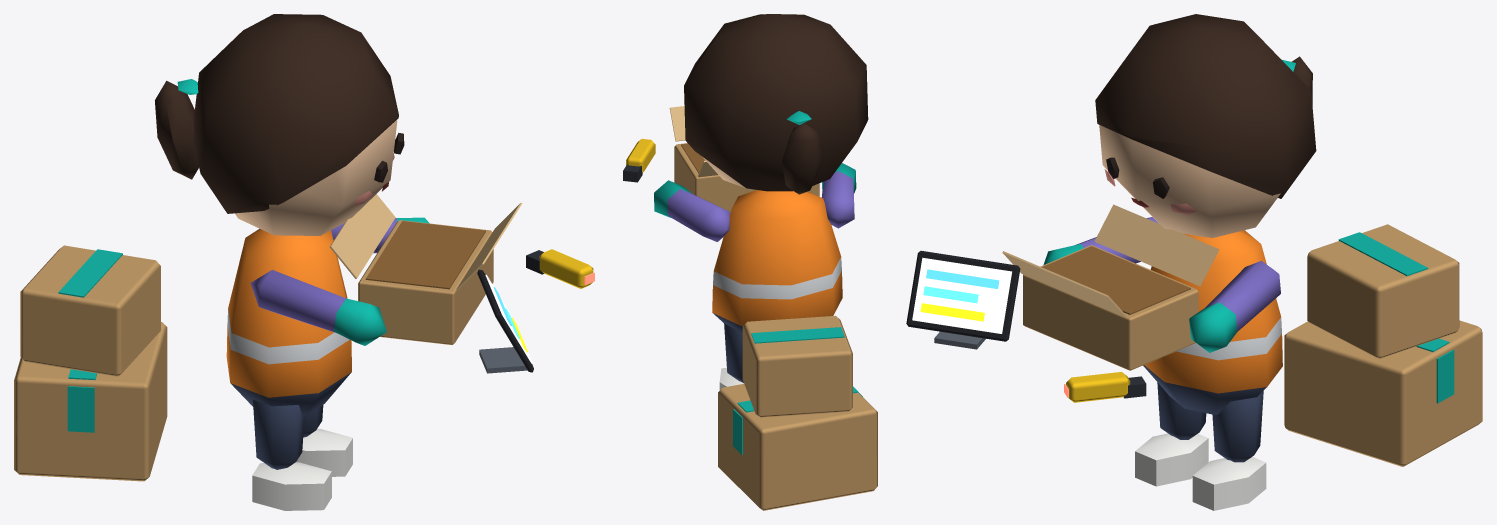
File: station_processing_ausstattung_1_2.glb
3 renders of one model, left to right at view 1: azimuth 30°, elevation 25°; view 2: azimuth 150°, elevation 25°; view 3: azimuth 270°, elevation 25°, orthographic. The views are drawn at different scales.
Parts seen in each view (by area): view 1: station_processing_ausstattung_1_2; view 2: station_processing_ausstattung_1_2; view 3: station_processing_ausstattung_1_2.
Part boxes in pixels (x1,y1,x2,y2): station_processing_ausstattung_1_2: [14, 14, 594, 510]; station_processing_ausstattung_1_2: [623, 14, 877, 510]; station_processing_ausstattung_1_2: [906, 14, 1482, 510].
Size of the model in its own units: 1.1 by 1.12 by 1.27.
